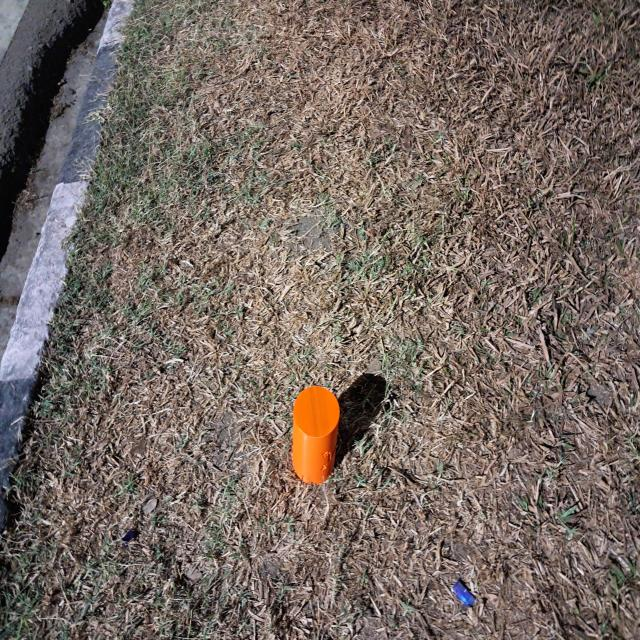Cylinder: (291, 384, 340, 485)
